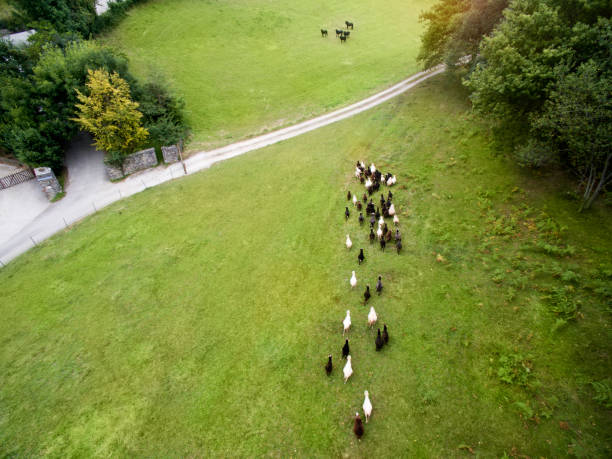sheep: (343, 411, 368, 445), (361, 385, 375, 418), (321, 353, 337, 379), (341, 308, 358, 332), (343, 356, 358, 383), (364, 306, 383, 327), (361, 286, 377, 307), (370, 323, 382, 350), (379, 324, 392, 348), (375, 274, 387, 298), (348, 268, 361, 290), (395, 239, 408, 259), (353, 212, 370, 227), (342, 191, 360, 205), (339, 339, 352, 358), (355, 246, 367, 266), (369, 164, 385, 179), (363, 173, 377, 190), (353, 195, 367, 209), (384, 191, 397, 206), (341, 204, 353, 220), (377, 214, 388, 231), (384, 170, 396, 185), (353, 158, 368, 170), (365, 226, 377, 240), (352, 166, 364, 180), (346, 236, 355, 252), (378, 235, 386, 253), (377, 193, 389, 205), (391, 213, 402, 225), (393, 225, 401, 239)
